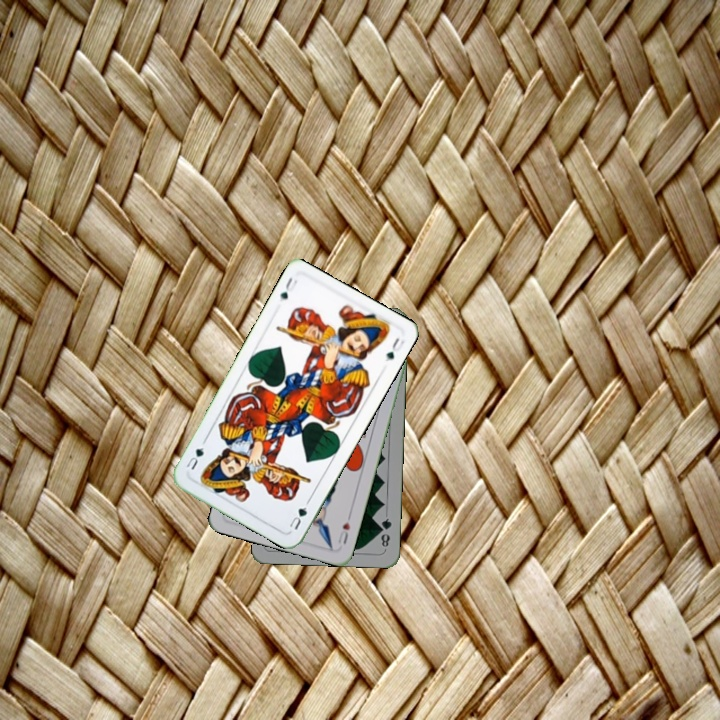G8: (376, 514, 394, 550)
GU: (285, 497, 312, 532), (275, 273, 300, 305)
HU: (334, 510, 353, 547)
